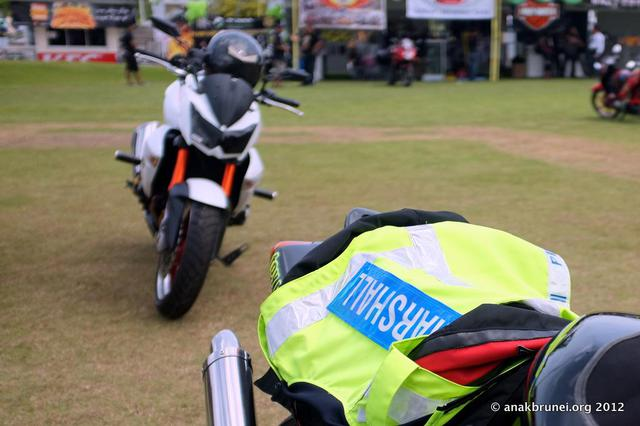helmet: (203, 28, 265, 83)
